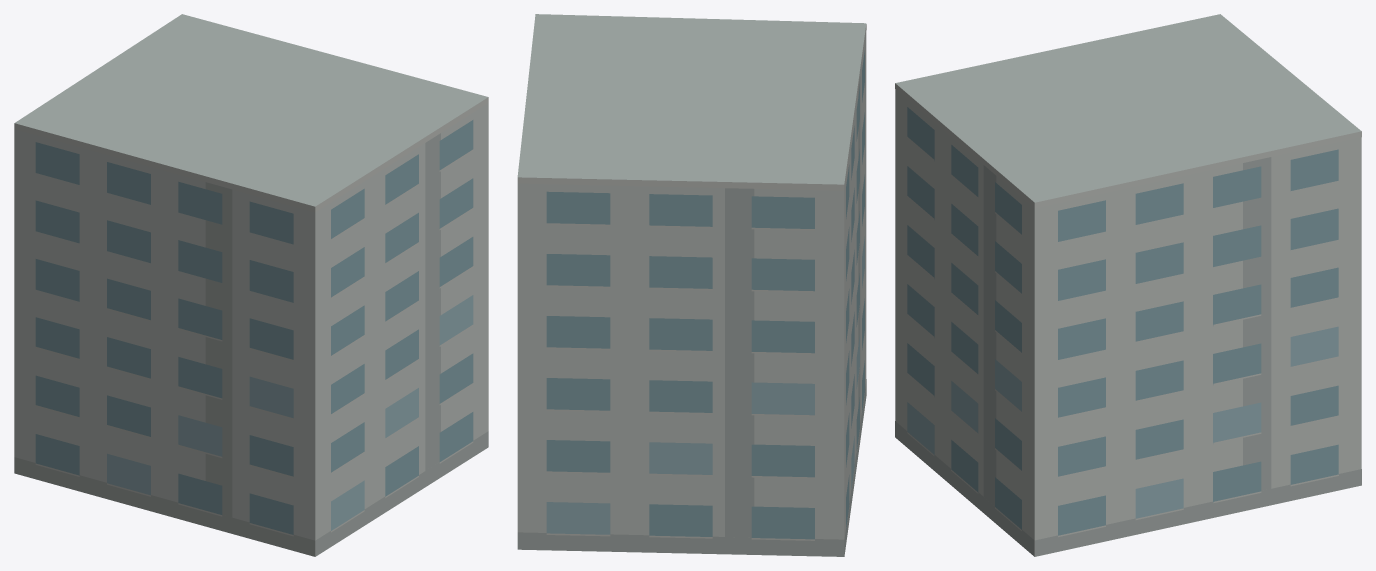
The model's file is survey-upis-32971610.glb.
3 renders of one model, left to right at view 1: azimuth 30°, elevation 25°; view 2: azimuth 150°, elevation 25°; view 3: azimuth 270°, elevation 25°, orthographic. The views are drawn at different scales.
Visible parts, largest first — view 1: survey-upis-32971610.tmp; view 2: survey-upis-32971610.tmp; view 3: survey-upis-32971610.tmp.
Boxes of the visible parts, x1,y1,x2,y2 form: survey-upis-32971610.tmp: (14,14,488,556); survey-upis-32971610.tmp: (517,14,866,556); survey-upis-32971610.tmp: (895,14,1361,556).
Bounding box in the file's own units: 16.69 × 14.6 × 17.44.
